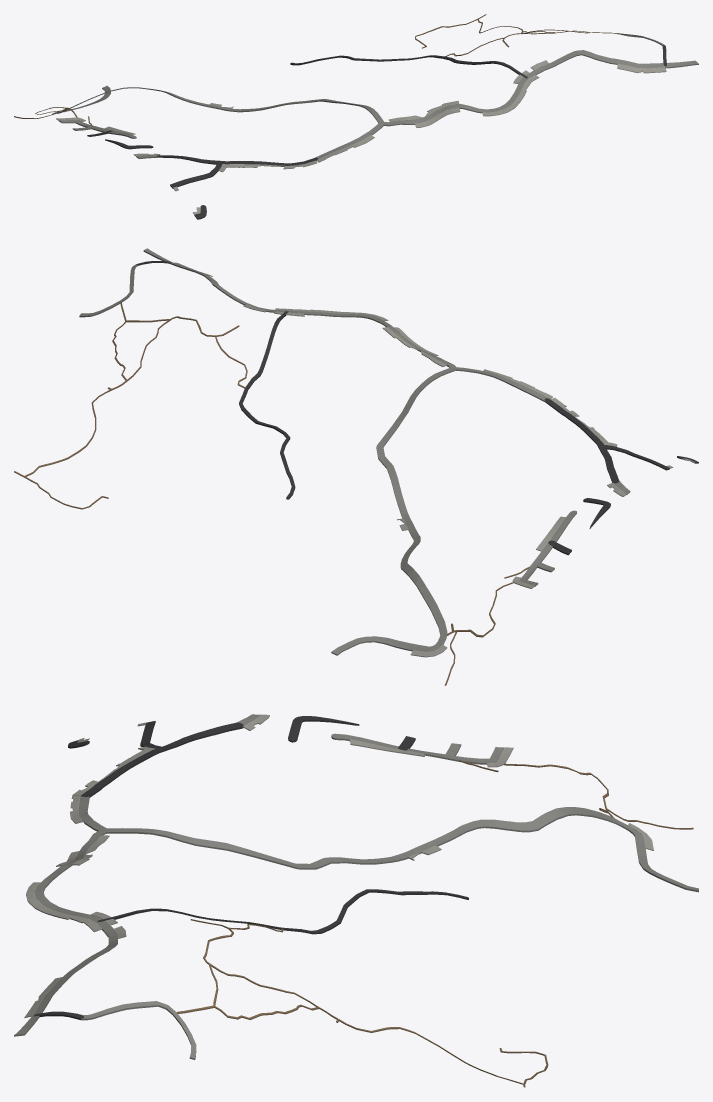
3 renders of one model, top to bottom at view 1: azimuth 30°, elevation 25°; view 2: azimuth 150°, elevation 25°; view 3: azimuth 270°, elevation 25°, orthographic. The views are drawn at different scales.
Bounding box in the file's own units: 587 × 127 × 458.
